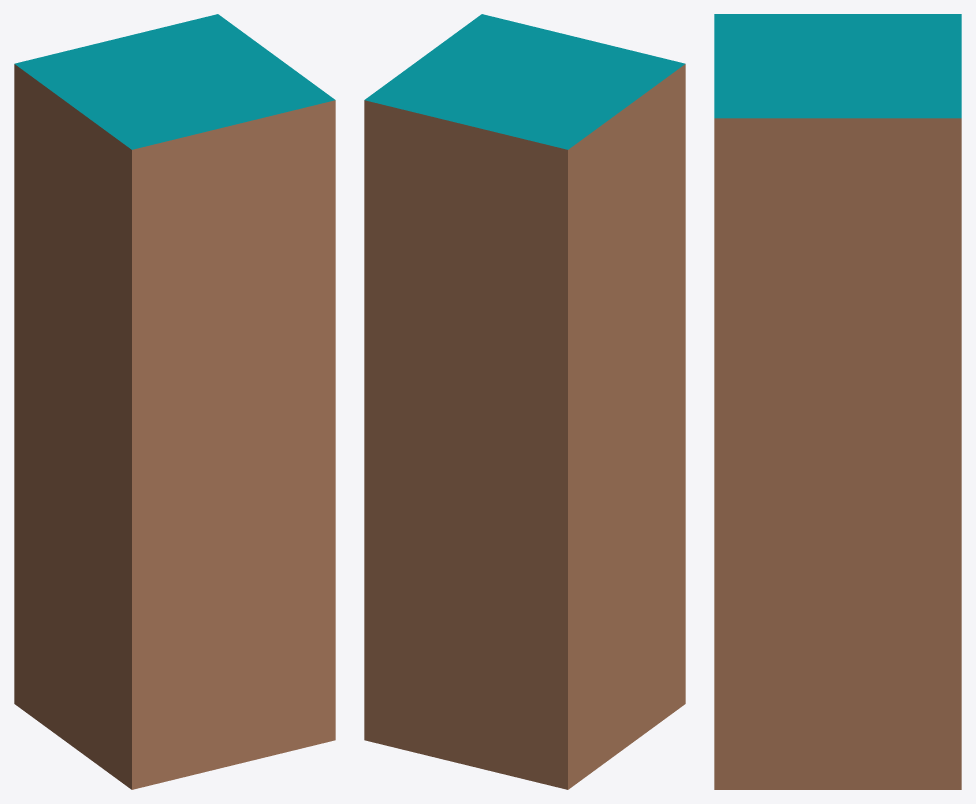
File: steve_left_arm.obj
3 views of the same model, side by side, from view 1: azimuth 30°, elevation 25°; view 2: azimuth 150°, elevation 25°; view 3: azimuth 270°, elevation 25° (orthographic). The views are drawn at different scales.
Parts seen in each view (by area): view 1: steve_left_arm; view 2: steve_left_arm; view 3: steve_left_arm.
Boxes of the visible parts, <box> form: steve_left_arm: <box>14,14,335,789</box>; steve_left_arm: <box>364,14,685,789</box>; steve_left_arm: <box>714,14,961,789</box>.
Bounding box in the file's own units: 4 × 12 × 4.
Materials: 1 (1 with a texture image).
